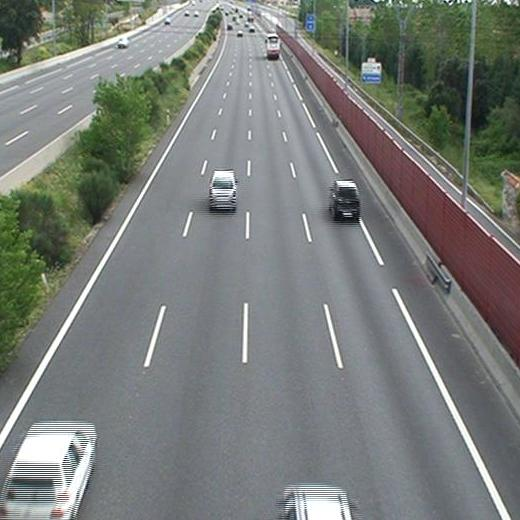bus: (266, 35, 280, 58)
car: (2, 422, 94, 520), (209, 170, 237, 208), (331, 182, 361, 216)
